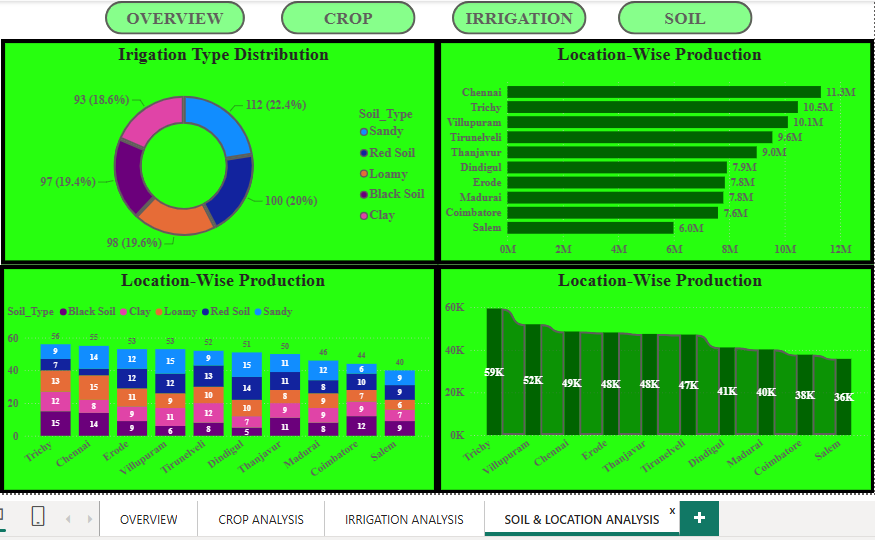

The page's visual inventory and layout, read from the dashboard file:
{"tool":"powerbi","page":{"name":"SOIL & LOCATION ANALYSIS","canvas":[1280,720],"ordinal":3},"visuals":[{"type":"donutChart","title":"Irigation Type Distribution","fields":{"Category":["Agriculture_Data.Soil_Type"],"Y":["CountNonNull(Agriculture_Data.Soil_Type)"]},"box":[1.6,55.6,639.7,330.2],"z":0},{"type":"clusteredBarChart","title":"Location-Wise Production","fields":{"Category":["Agriculture_Data.Location"],"Y":["Sum(Agriculture_Data.Production_Cost_INR)"]},"box":[639.7,55.6,639.7,330.2],"z":1000},{"type":"columnChart","title":"Location-Wise Production","fields":{"Category":["Agriculture_Data.Location"],"Series":["Agriculture_Data.Soil_Type"],"Y":["CountNonNull(Agriculture_Data.Soil_Type)"]},"box":[0,385.7,641.3,334.9],"z":2000},{"type":"ribbonChart","title":"Location-Wise Production","fields":{"Category":["Agriculture_Data.Location"],"Y":["Sum(Agriculture_Data.Rainfall_mm)"]},"box":[639.7,385.7,641.3,334.9],"z":3000},{"type":"actionButton","box":[154,0,204.8,49.2],"z":4000},{"type":"actionButton","box":[411.1,0,196.8,49.2],"z":5000},{"type":"actionButton","box":[661.9,0,196.8,49.2],"z":6000},{"type":"actionButton","box":[904.8,0,196.8,49.2],"z":7000}]}

Visuals, with their boxes on the page's 1280x720 design canvas (x1, y1, x2, y2). These are canvas units, not pixel positions in the 875x540 screenshot, which may show the page scaled, cropped or inside an application window:
"Irigation Type Distribution" donutChart: select_region(2, 56, 641, 386)
"Location-Wise Production" clusteredBarChart: select_region(640, 56, 1279, 386)
"Location-Wise Production" columnChart: select_region(0, 386, 641, 721)
"Location-Wise Production" ribbonChart: select_region(640, 386, 1281, 721)
actionButton: select_region(154, 0, 359, 49)
actionButton: select_region(411, 0, 608, 49)
actionButton: select_region(662, 0, 859, 49)
actionButton: select_region(905, 0, 1102, 49)
